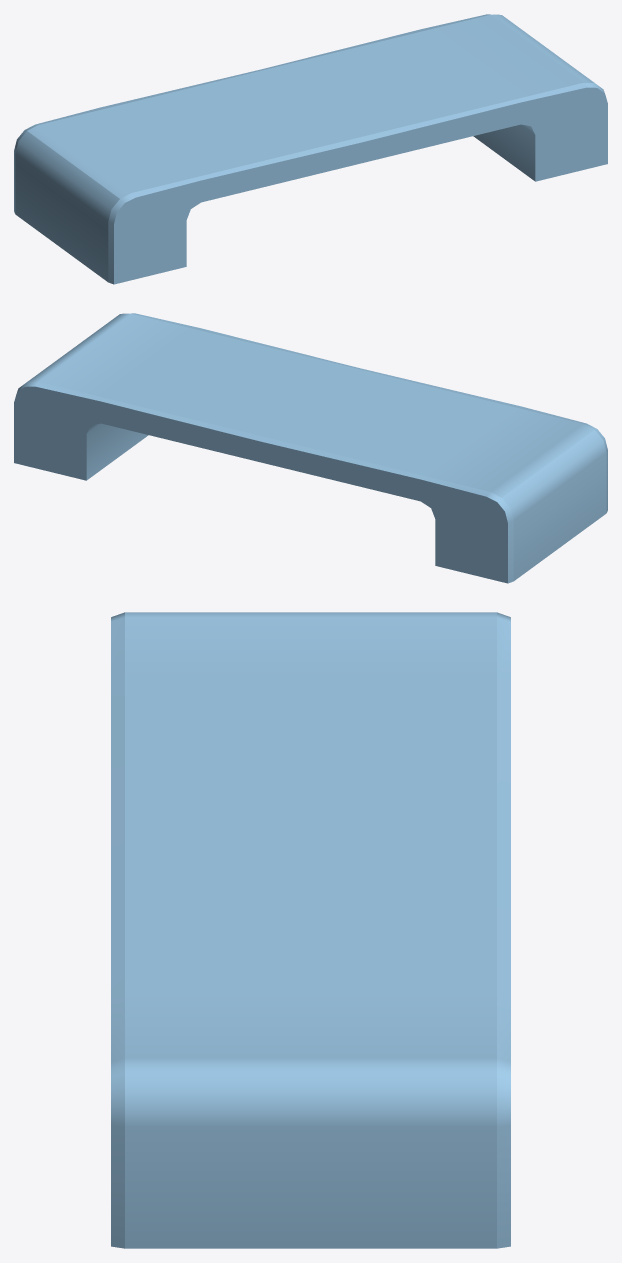
File: Bench02_mesh 1.fbx
3 views of the same model, one above another, from view 1: azimuth 30°, elevation 25°; view 2: azimuth 150°, elevation 25°; view 3: azimuth 270°, elevation 25° (orthographic). The views are drawn at different scales.
Visible parts, largest first — view 1: Bench02_mesh; view 2: Bench02_mesh; view 3: Bench02_mesh.
Part boxes in pixels (x1=…): Bench02_mesh: x1=14, y1=14, x2=607, y2=284; Bench02_mesh: x1=14, y1=313, x2=607, y2=583; Bench02_mesh: x1=111, y1=612, x2=510, y2=1248.
Bounding box in the file's own units: 241 × 38.7 × 83.73.
